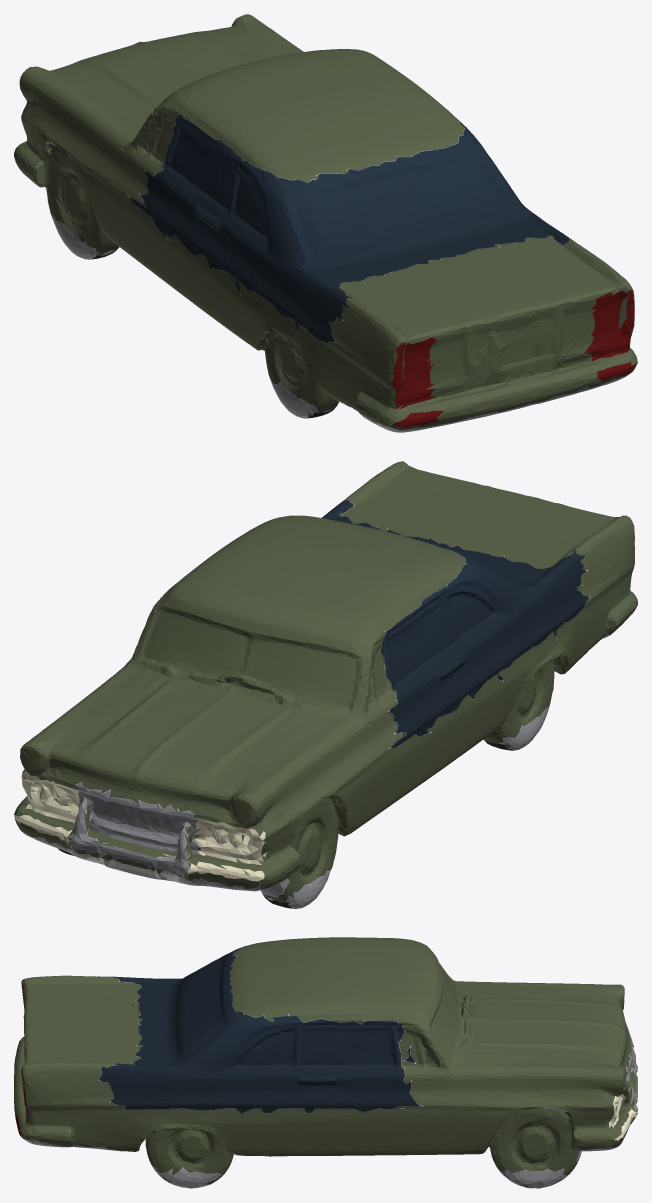
Rendered from vintage.glb.
The picture shows the model from 3 angles, top to bottom: view 1: azimuth 30°, elevation 25°; view 2: azimuth 150°, elevation 25°; view 3: azimuth 270°, elevation 25°; orthographic projection. The views are drawn at different scales.
Parts seen in each view (by area): view 1: body, taillights_rear; view 2: body, headlights_front; view 3: body, headlights_front.
Part boxes in pixels (x1,y1,x2,y2): body: [14, 14, 637, 432]; taillights_rear: [391, 290, 635, 427]; body: [14, 461, 637, 908]; headlights_front: [14, 770, 266, 881]; body: [14, 937, 637, 1188]; headlights_front: [609, 1094, 636, 1140].
Bounding box in the file's own units: 77.45 × 61.57 × 197.
7 materials, 1 textured.
